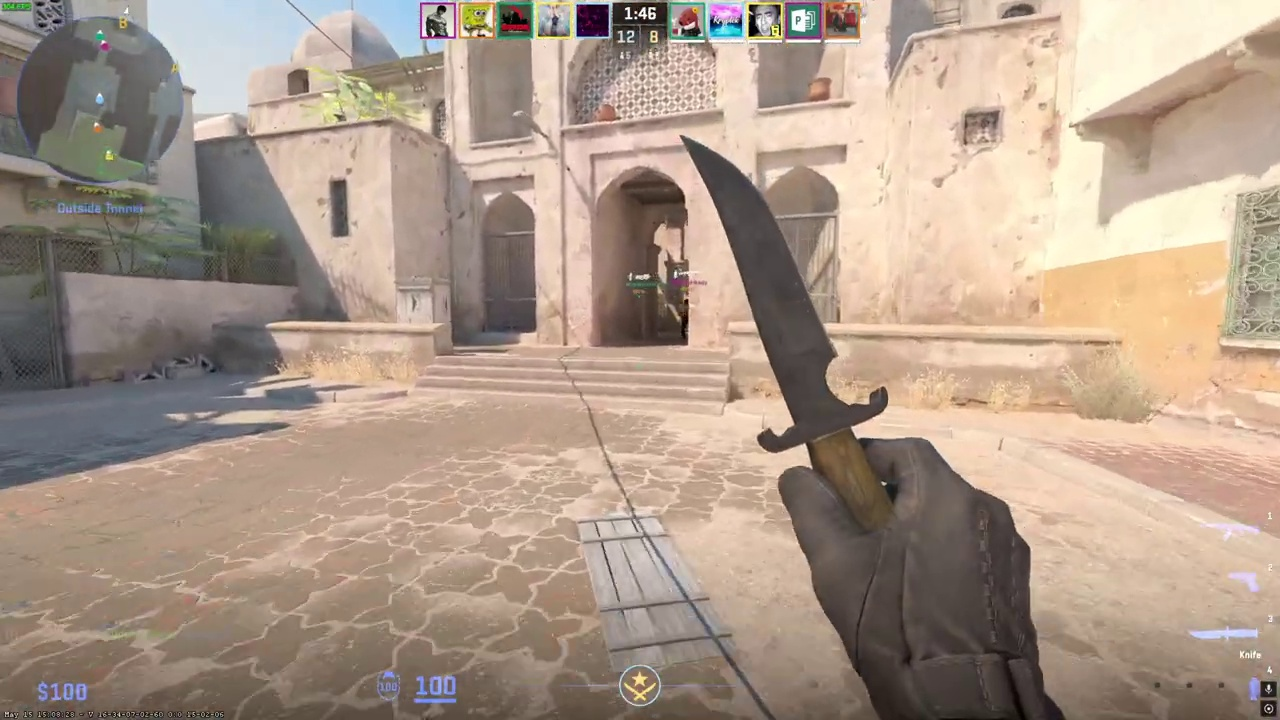Terrorist: (679, 298, 689, 341)
